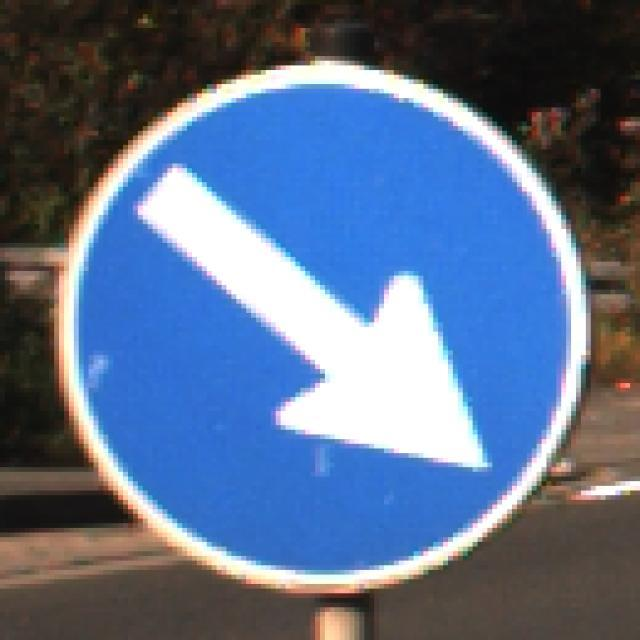compulsary keep right: (59, 66, 583, 592)
